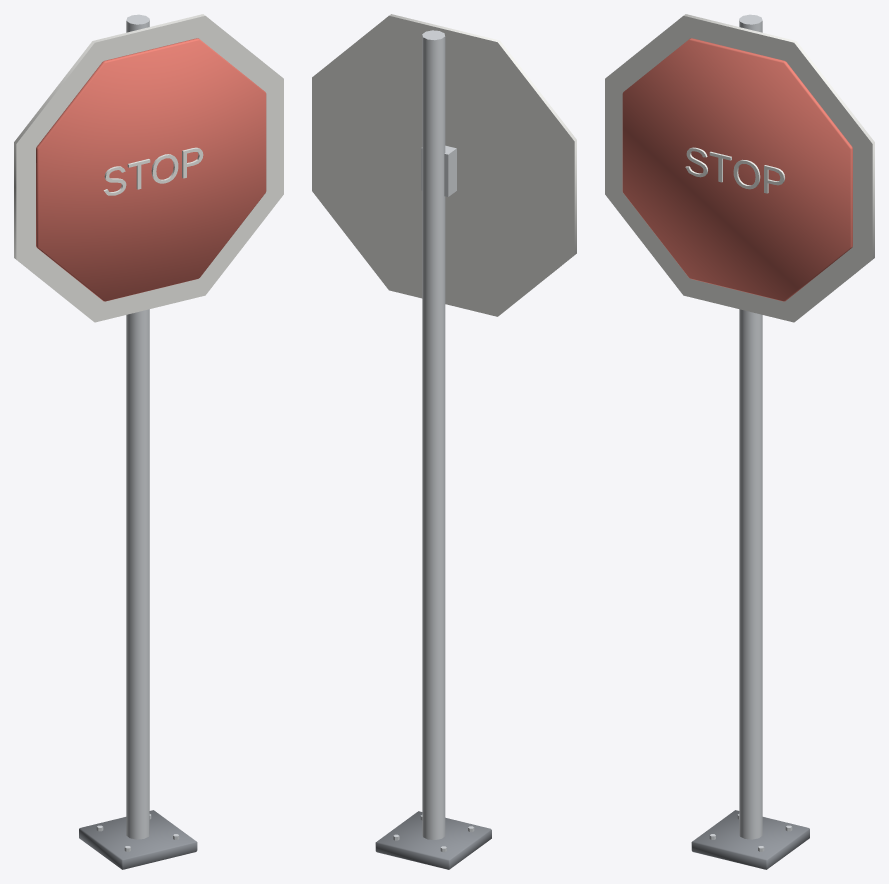
File: Sign_Stop.fbx
3 views of the same model, side by side, from view 1: azimuth 30°, elevation 25°; view 2: azimuth 150°, elevation 25°; view 3: azimuth 330°, elevation 25° (orthographic).
Visible parts, largest first — view 1: LOD0; view 2: LOD0; view 3: LOD0.
Part boxes in pixels (box(x1,y1,x2,y2)): LOD0: box(14, 14, 283, 869); LOD0: box(312, 14, 576, 869); LOD0: box(605, 14, 874, 869).
Size of what is drawn, in the model's own units: 77.61 by 229 by 22.
